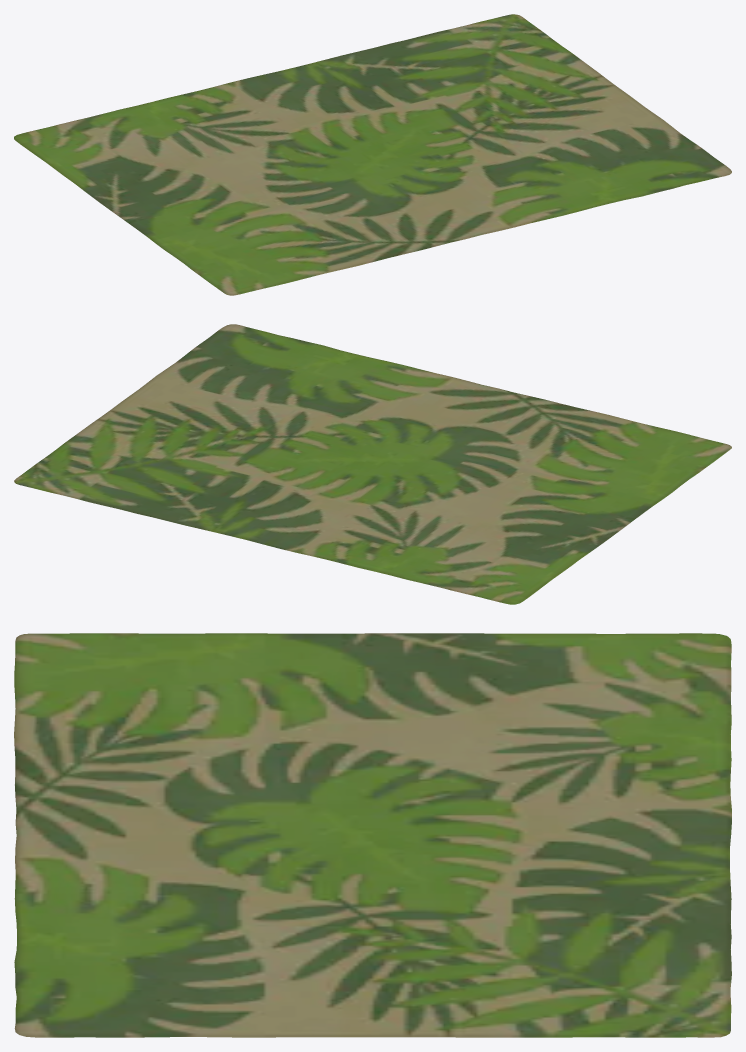
3 renders of one model, top to bottom at view 1: azimuth 30°, elevation 25°; view 2: azimuth 150°, elevation 25°; view 3: azimuth 270°, elevation 25°, orthographic. The views are drawn at different scales.
Bounding box in the file's own units: 39.94 × 0.0293 × 29.96.
1 material, 1 textured.
